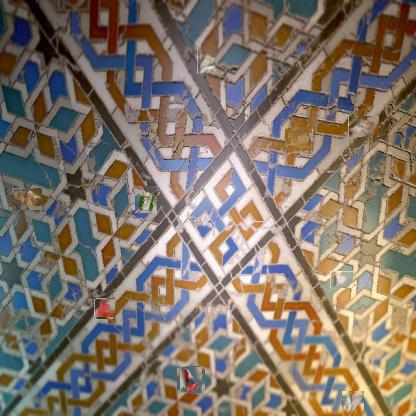dirty: (348, 115, 379, 137), (12, 188, 42, 210), (134, 186, 158, 212), (179, 367, 204, 391), (342, 392, 364, 416), (197, 53, 218, 74), (330, 271, 353, 288)
liquid: (286, 128, 312, 154), (95, 299, 115, 318)
